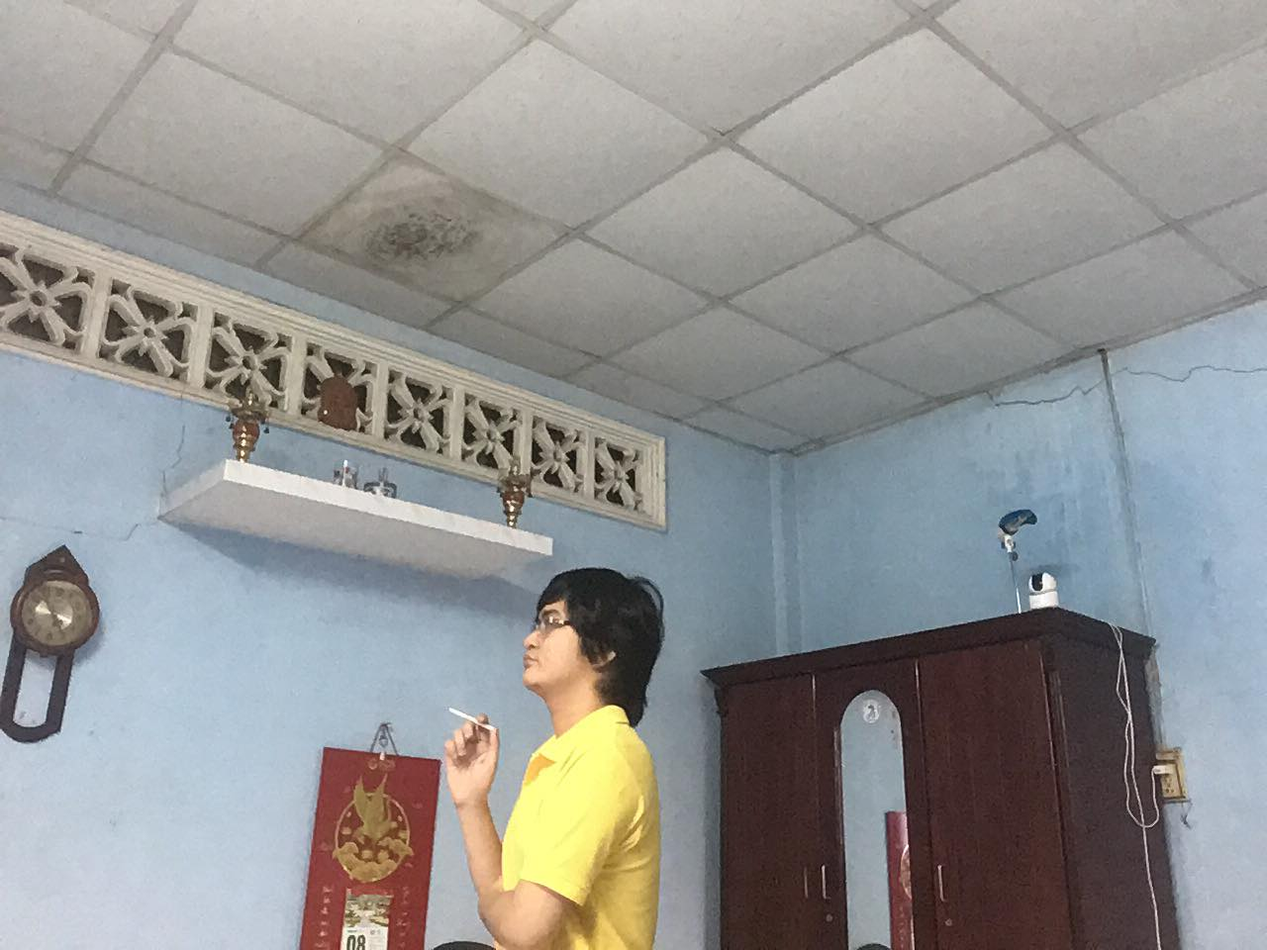cigarette: (444, 704, 476, 723)
person: (441, 564, 671, 948)
